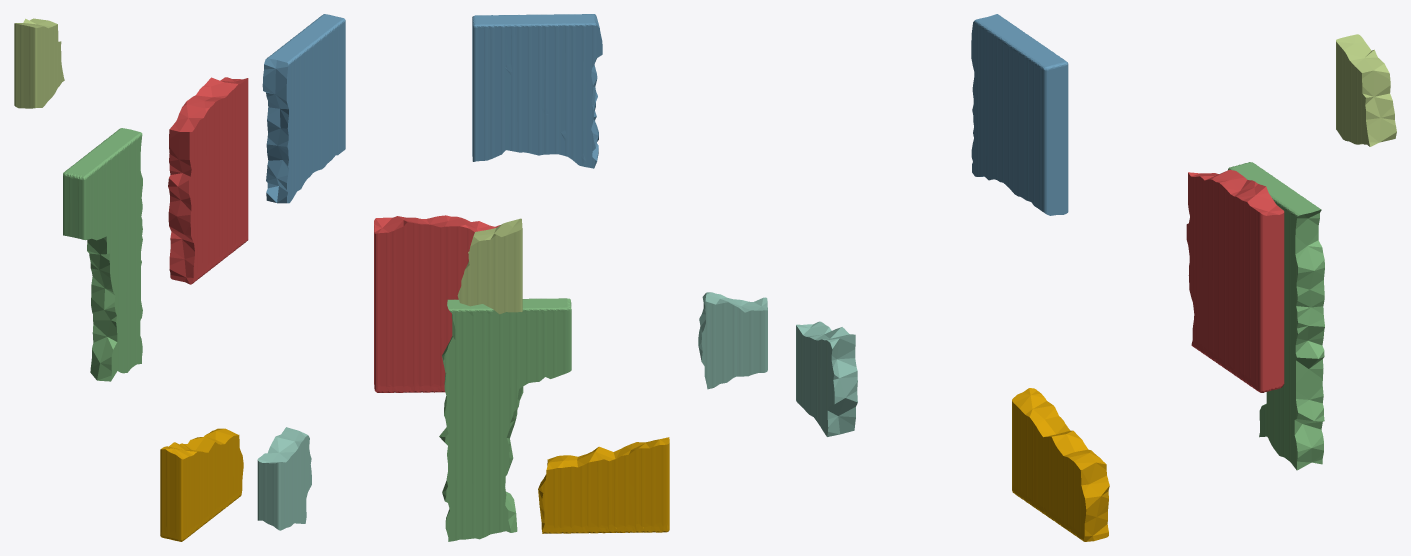
Rendered from fractured_46_6pcs_transformed.glb.
3 views of the same model, side by side, from view 1: azimuth 30°, elevation 25°; view 2: azimuth 150°, elevation 25°; view 3: azimuth 270°, elevation 25° (orthographic). The views are drawn at different scales.
Parts seen in each view (by area): view 1: piece_3.obj, piece_1.obj, piece_2.obj, piece_0.obj, piece_4.obj, piece_5.obj; view 2: piece_3.obj, piece_2.obj, piece_1.obj, piece_0.obj, piece_4.obj, piece_5.obj; view 3: piece_1.obj, piece_2.obj, piece_3.obj, piece_0.obj, piece_4.obj, piece_5.obj.
Part boxes in pixels (<box>): piece_3.obj: <box>63,128,142,381</box>; piece_1.obj: <box>168,77,248,284</box>; piece_2.obj: <box>262,14,345,203</box>; piece_0.obj: <box>160,428,243,541</box>; piece_4.obj: <box>257,427,311,530</box>; piece_5.obj: <box>14,18,64,108</box>; piece_3.obj: <box>439,298,571,541</box>; piece_2.obj: <box>472,14,602,168</box>; piece_1.obj: <box>374,215,500,392</box>; piece_0.obj: <box>538,437,669,533</box>; piece_4.obj: <box>698,292,767,389</box>; piece_5.obj: <box>457,218,522,314</box>; piece_1.obj: <box>1186,169,1284,392</box>; piece_2.obj: <box>971,14,1068,215</box>; piece_3.obj: <box>1228,162,1324,470</box>; piece_0.obj: <box>1012,388,1109,541</box>; piece_4.obj: <box>796,321,857,436</box>; piece_5.obj: <box>1336,34,1396,146</box>.
Size of the model in its own units: 0.6757 by 1.6 by 1.67.
